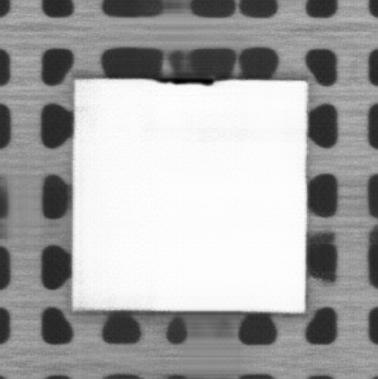DIE_BROKEN: (150, 74, 215, 86)
